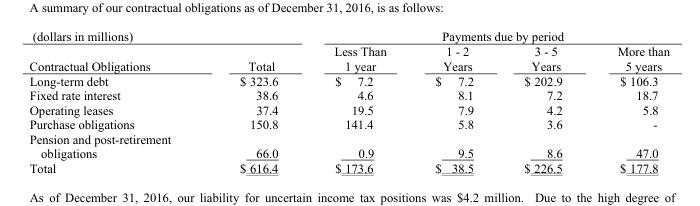table: (28, 28, 669, 174)
table column: (28, 28, 204, 174), (305, 28, 410, 174), (204, 28, 305, 174), (498, 28, 589, 174), (410, 28, 498, 174), (589, 28, 669, 174)
table column header: (28, 28, 669, 72)
table row: (28, 43, 669, 72), (28, 131, 669, 160), (28, 28, 669, 43), (28, 72, 669, 87), (28, 87, 669, 102), (28, 116, 669, 131), (28, 102, 669, 116), (28, 160, 669, 174)
table spanning cell: (305, 28, 669, 43), (28, 28, 305, 43)
